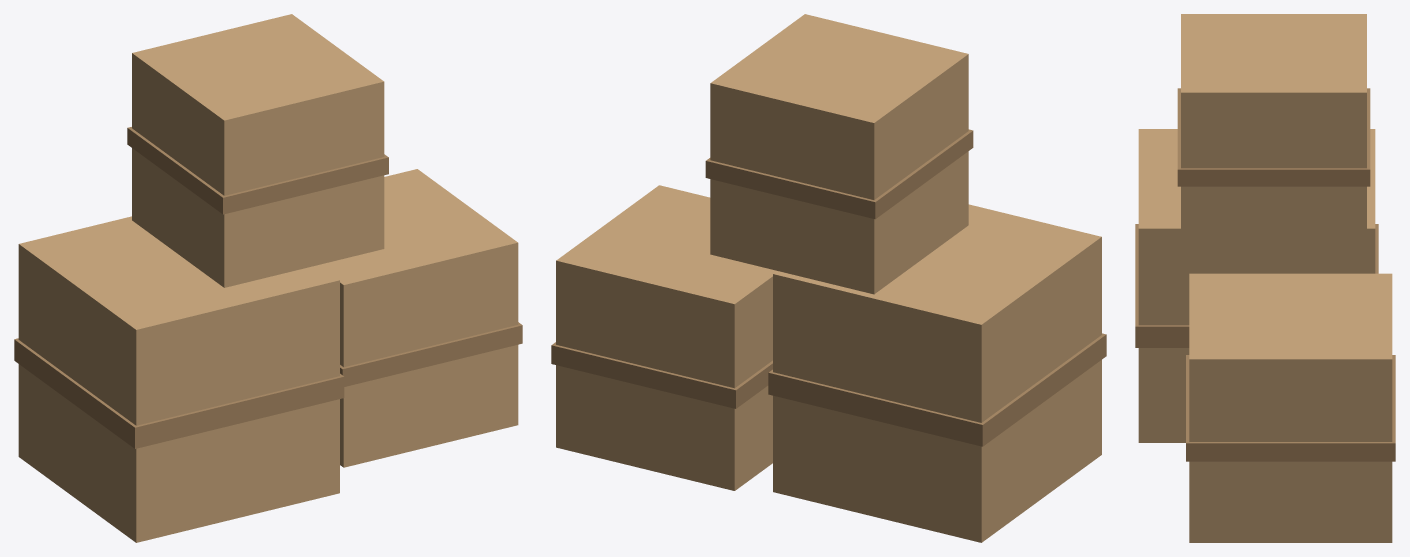
File: crate_stack.glb
3 renders of one model, left to right at view 1: azimuth 30°, elevation 25°; view 2: azimuth 150°, elevation 25°; view 3: azimuth 270°, elevation 25°, orthographic. The views are drawn at different scales.
Parts seen in each view (by area): view 1: Player; view 2: Player; view 3: Player.
Boxes of the visible parts, <box> form: Player: <box>14,14,522,542</box>; Player: <box>551,14,1106,542</box>; Player: <box>1135,14,1395,542</box>.
Size of the model in its own units: 1.42 by 1.25 by 0.77.
